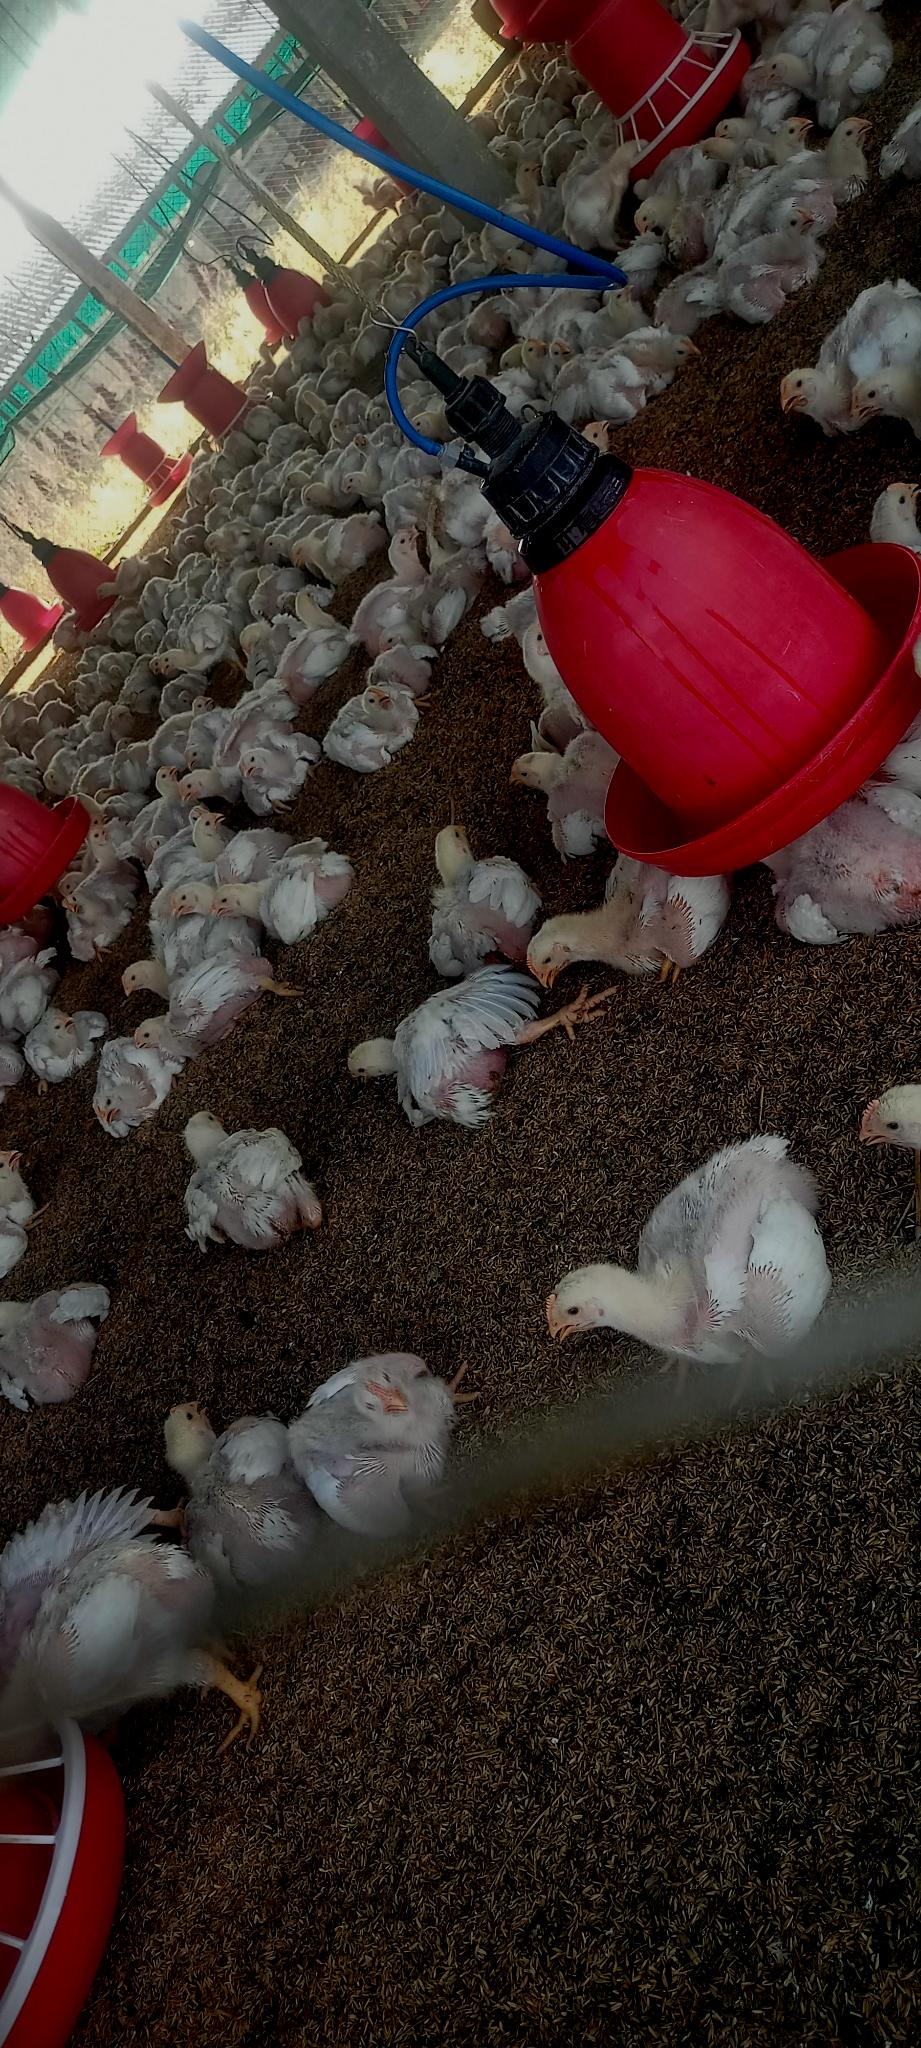Pollos: (550, 1123, 828, 1381), (303, 1330, 462, 1543), (337, 982, 543, 1128), (176, 1108, 344, 1242), (166, 1383, 297, 1546), (783, 272, 912, 428), (404, 824, 534, 964), (213, 835, 353, 940), (119, 955, 290, 1021), (86, 1032, 159, 1155), (327, 673, 410, 763)
